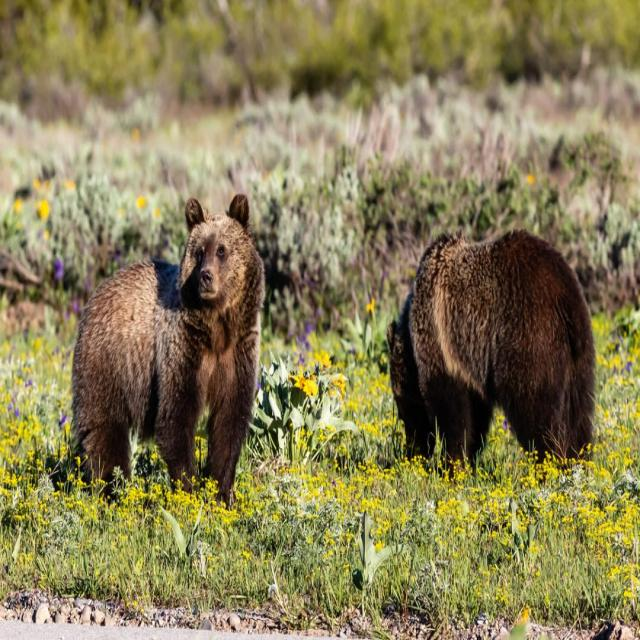Bear: (68, 196, 267, 507), (387, 230, 598, 469)
